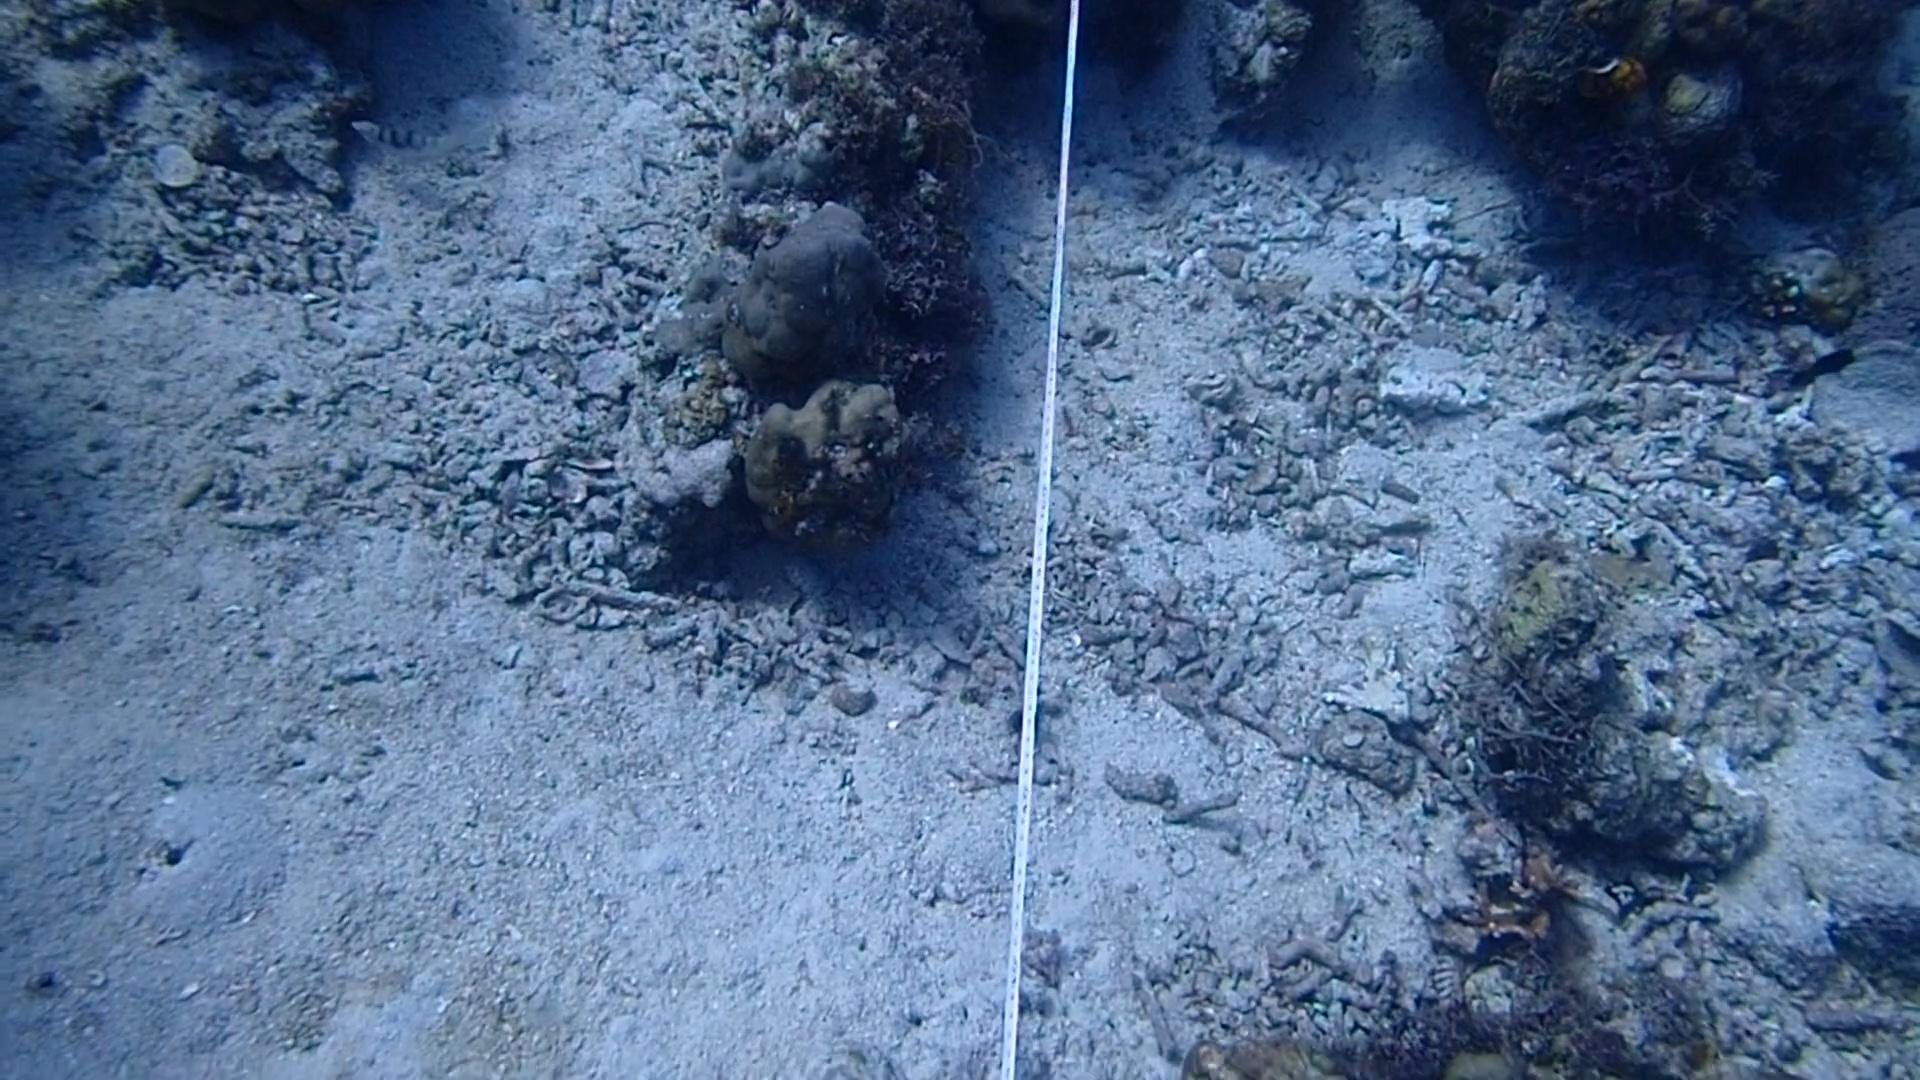Dark Fish: (1783, 334, 1858, 402)
